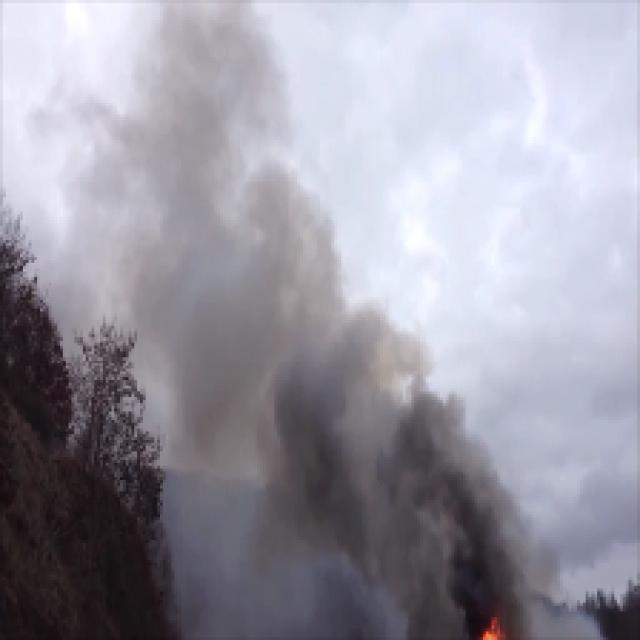smoke: (164, 0, 298, 640), (306, 320, 471, 640), (46, 61, 162, 334), (479, 476, 568, 640)
